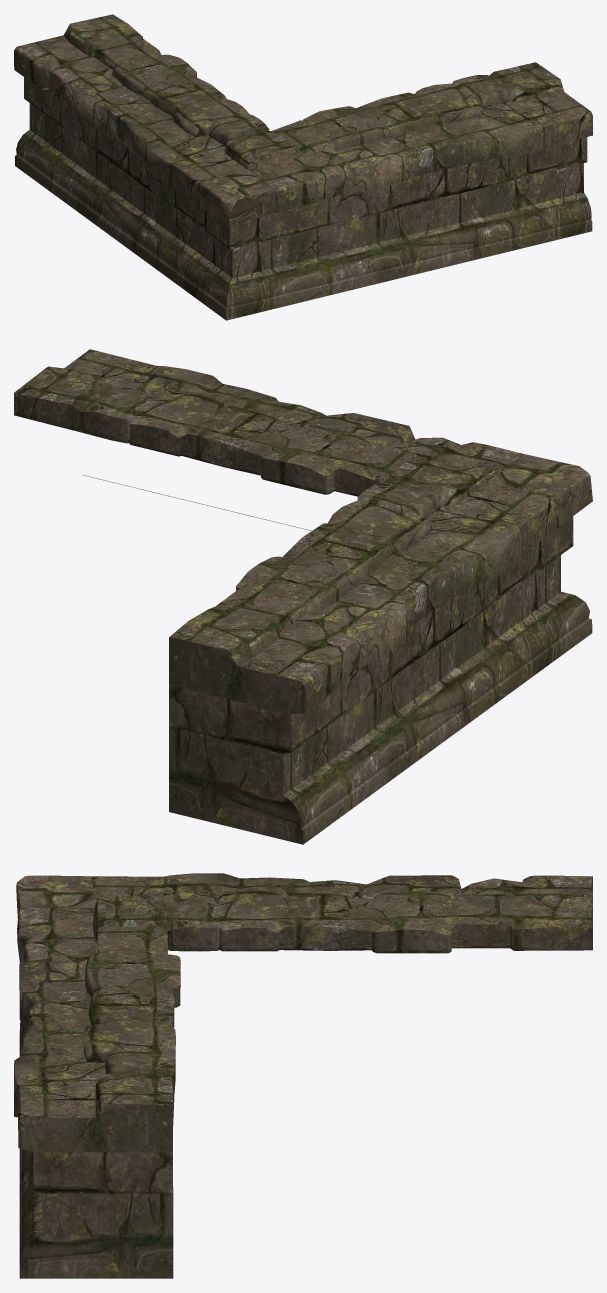
File: Platform_Part_Corner_01-transformed.glb
3 views of the same model, one above another, from view 1: azimuth 30°, elevation 25°; view 2: azimuth 150°, elevation 25°; view 3: azimuth 270°, elevation 25° (orthographic). The views are drawn at different scales.
Visible parts, largest first — view 1: default; view 2: default; view 3: default.
Boxes of the visible parts, left/top/right/bottom form: default: left=14, top=14, right=592, bottom=320; default: left=14, top=349, right=592, bottom=844; default: left=14, top=873, right=592, bottom=1278.
Bounding box in the file's own units: 6.88 × 2.29 × 6.88.
Materials: 1 (1 with a texture image).
